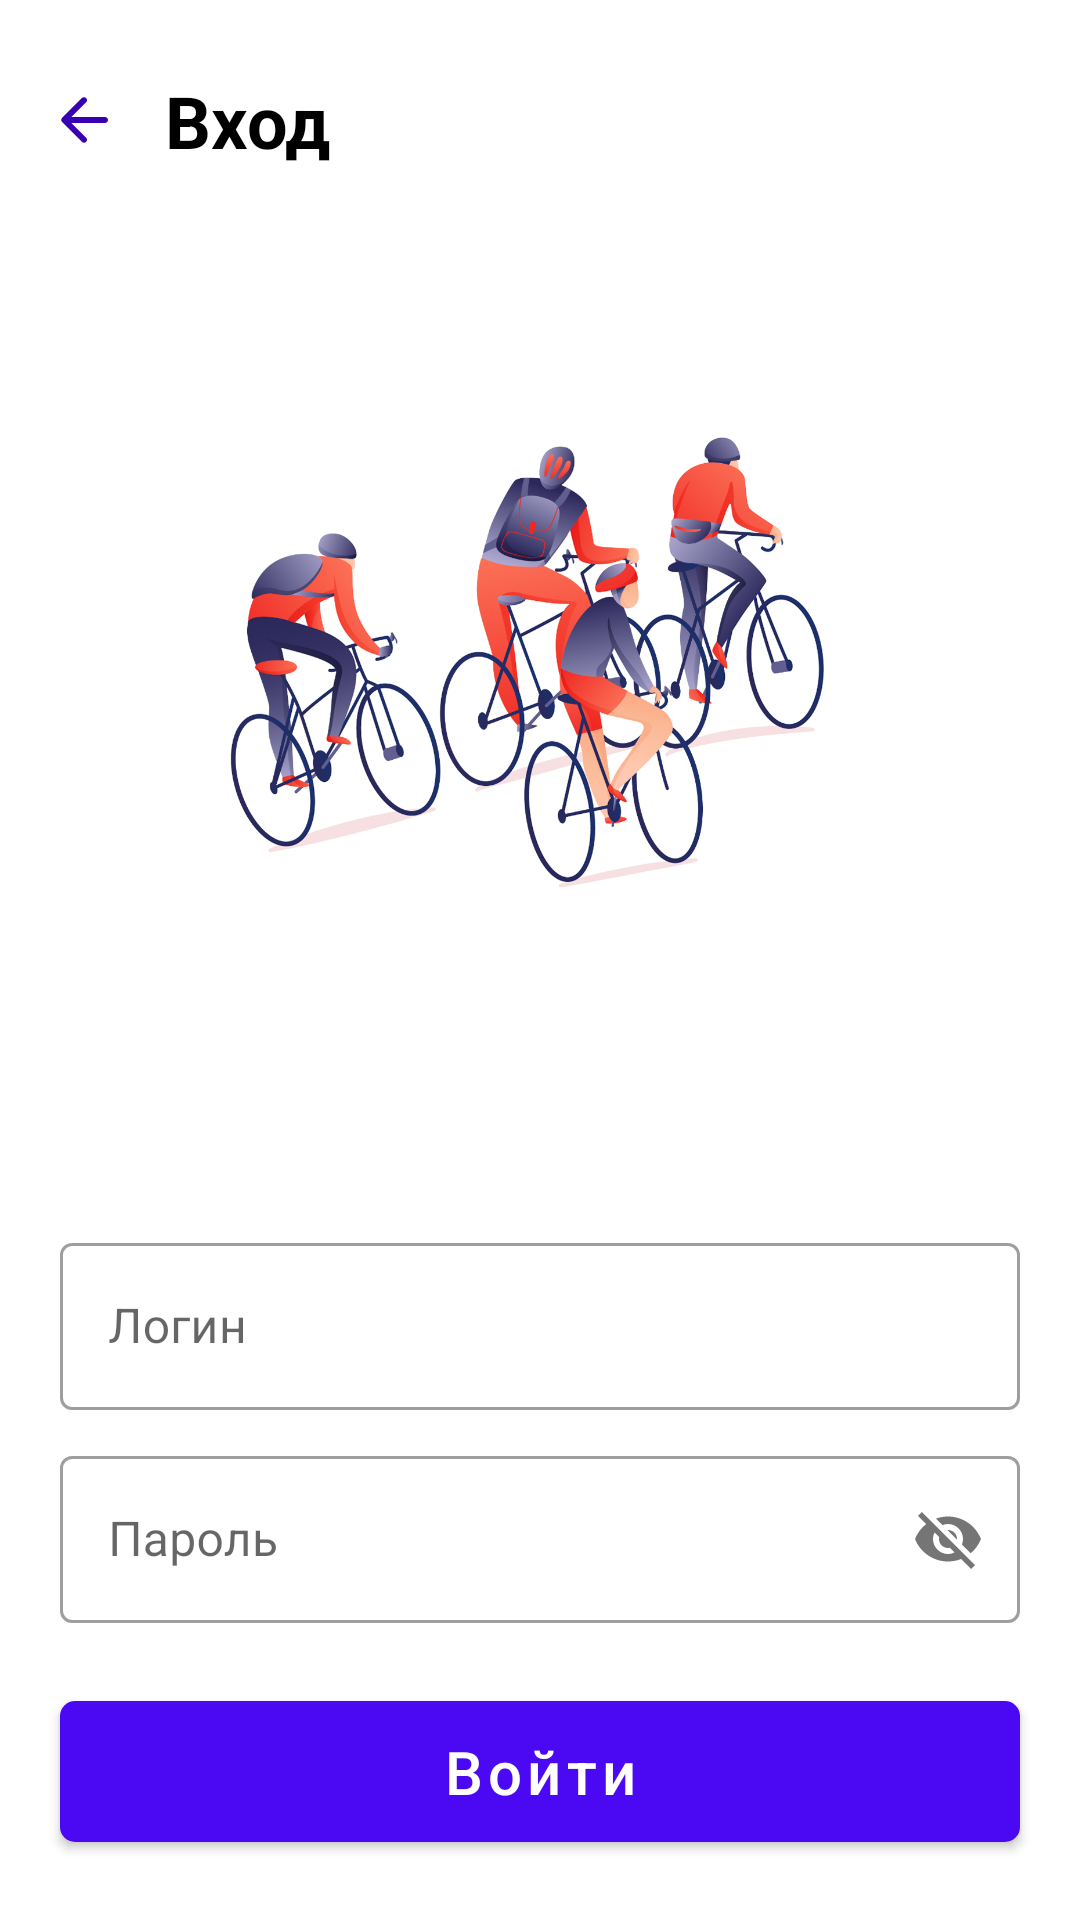

Screen size 1080 × 1920. Icon name, then its box in pixels as (x1, y1, x2, y2):
arrow back: (61, 97, 108, 143)
